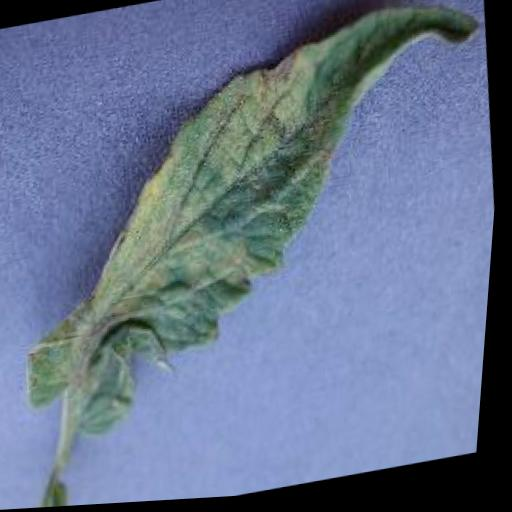Leaf Mold: (0, 0, 511, 448)
